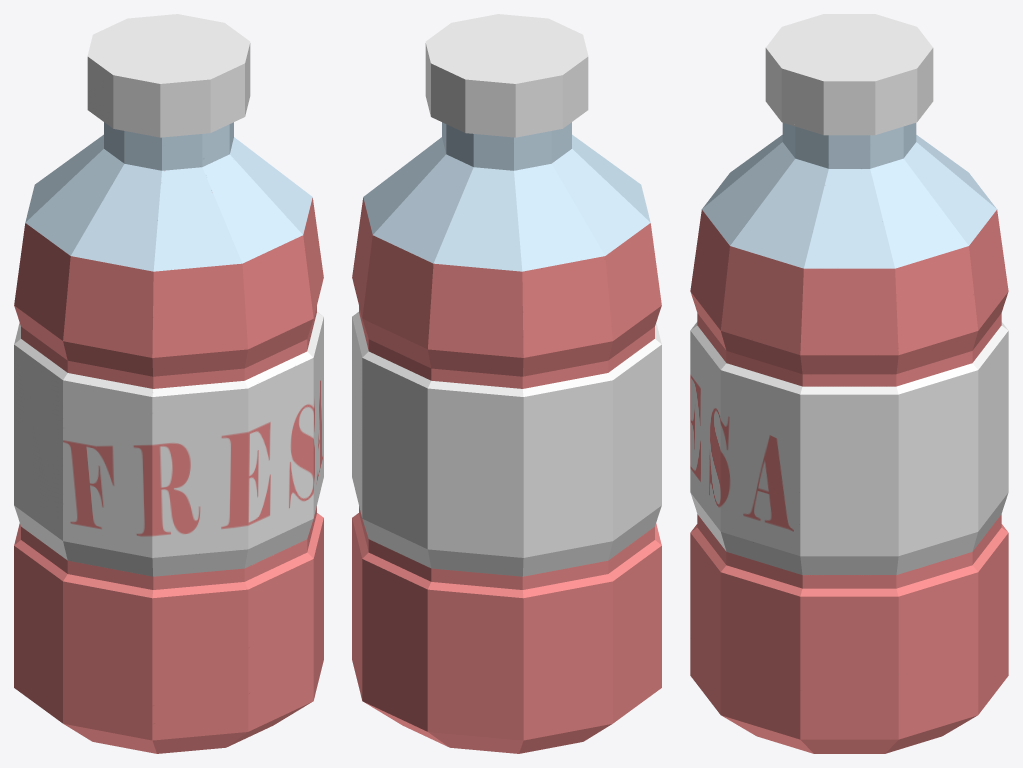
Rendered from BotellaFresa.fbx.
3 views of the same model, side by side, from view 1: azimuth 30°, elevation 25°; view 2: azimuth 150°, elevation 25°; view 3: azimuth 270°, elevation 25° (orthographic).
Visible parts, largest first — view 1: p9_botella_agua_fresa; view 2: p9_botella_agua_fresa; view 3: p9_botella_agua_fresa.
Boxes of the visible parts, x1,y1,x2,y2 form: p9_botella_agua_fresa: [14, 14, 323, 753]; p9_botella_agua_fresa: [352, 14, 661, 753]; p9_botella_agua_fresa: [690, 14, 1008, 753].
Size of the model in its own units: 0.2036 by 0.49 by 0.2141.
